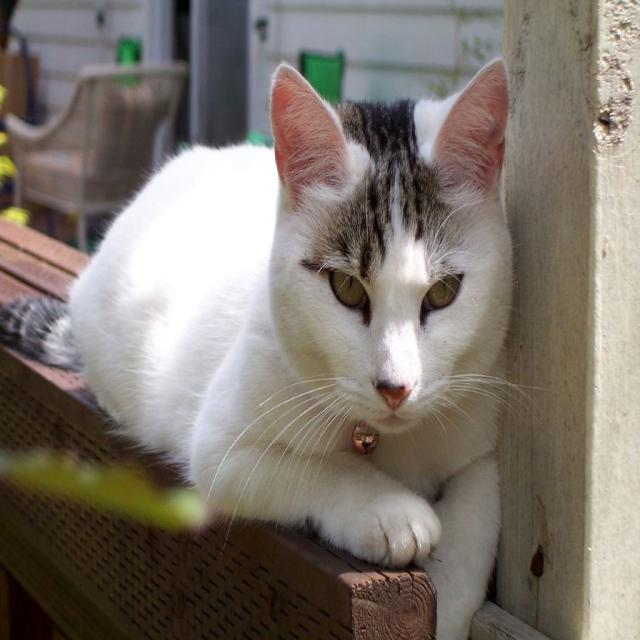Cat: (0, 57, 551, 638)
